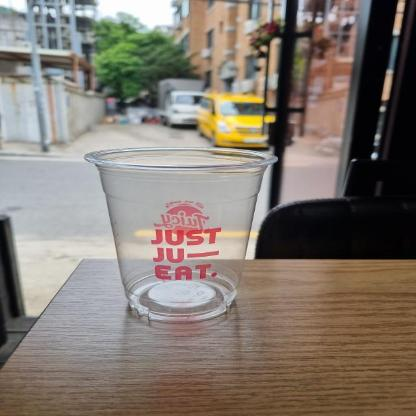Plastic Cup: (80, 140, 284, 328)
